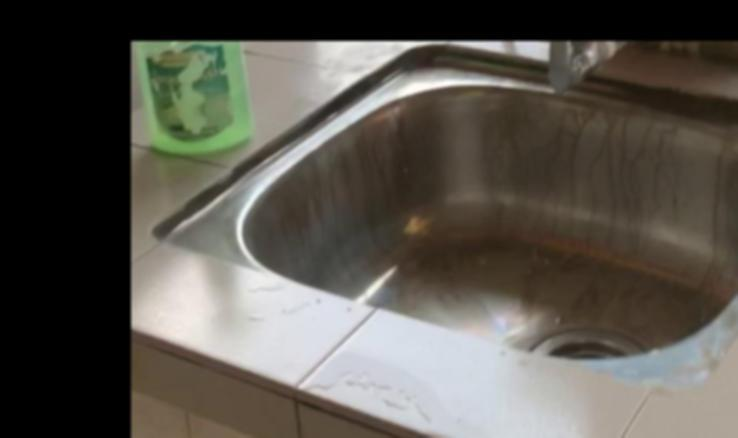Lavaplatos: (180, 64, 738, 438)
